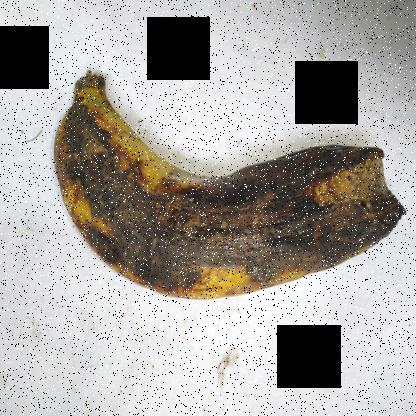rotten: (63, 100, 404, 307)
